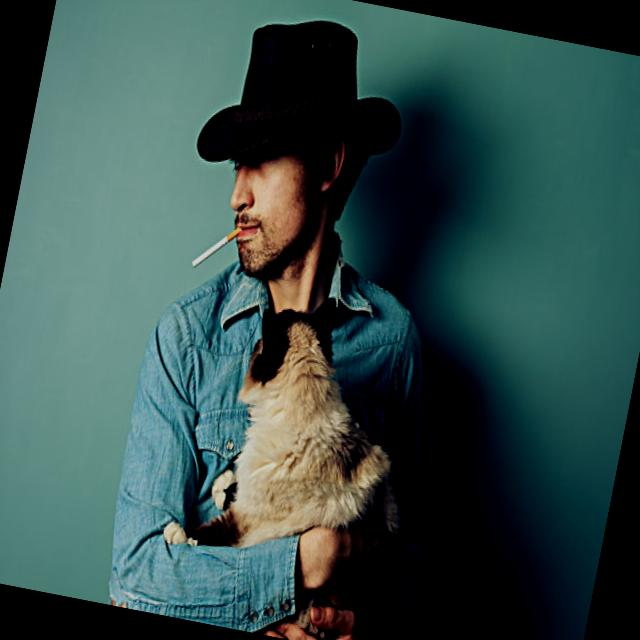cigarette: (188, 212, 246, 284)
